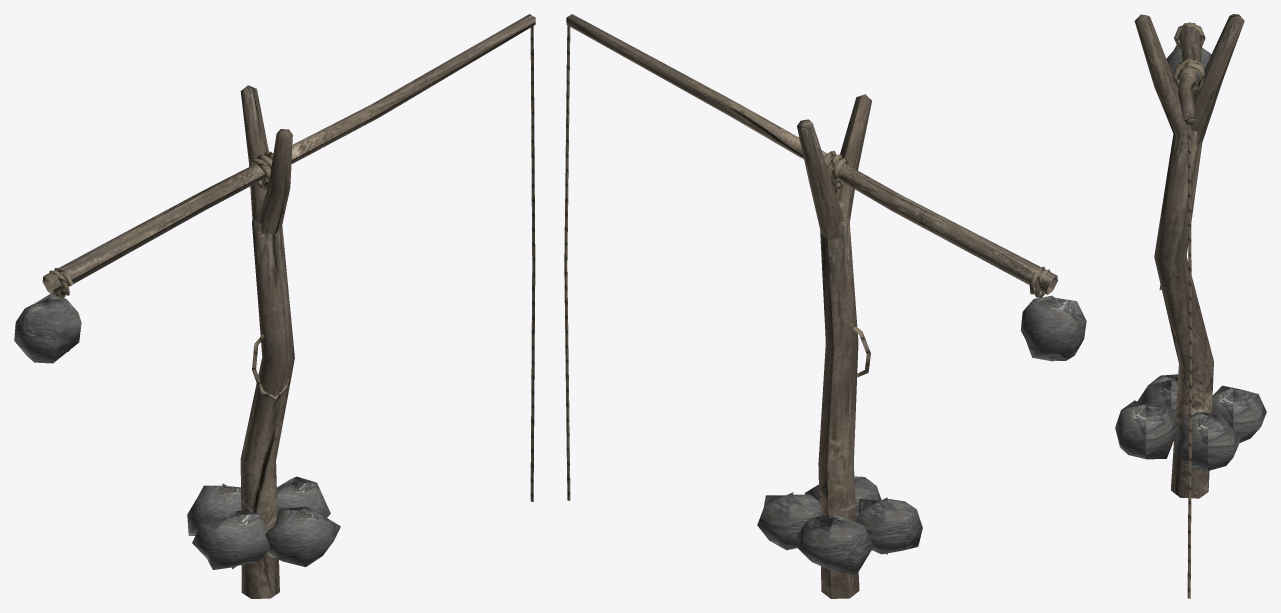
The model's file is kf_jig_frame.glb.
The picture shows the model from 3 angles, left to right: view 1: azimuth 30°, elevation 25°; view 2: azimuth 150°, elevation 25°; view 3: azimuth 270°, elevation 25°; orthographic projection.
Parts seen in each view (by area): view 1: kf_jig_frame; view 2: kf_jig_frame; view 3: kf_jig_frame.
Boxes of the visible parts, bbox=[...] form: kf_jig_frame: bbox=[14, 14, 535, 598]; kf_jig_frame: bbox=[564, 14, 1086, 598]; kf_jig_frame: bbox=[1115, 14, 1266, 598].
Bounding box in the file's own units: 0.8737 × 0.8288 × 0.2242.
Materials: 1 (1 with a texture image).
